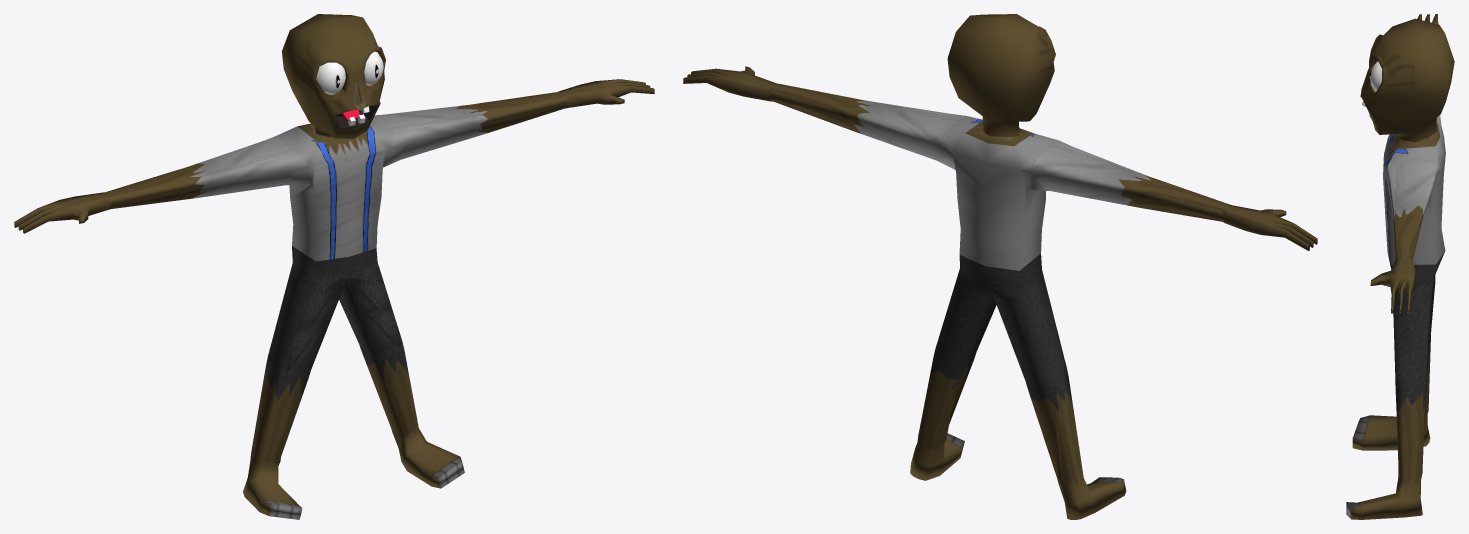
The model's file is Zombie.fbx.
The picture shows the model from 3 angles, left to right: view 1: azimuth 30°, elevation 25°; view 2: azimuth 150°, elevation 25°; view 3: azimuth 270°, elevation 25°; orthographic projection. The views are drawn at different scales.
Parts seen in each view (by area): view 1: zombie; view 2: zombie; view 3: zombie.
Part boxes in pixels (left/top/right/bottom): zombie: left=14, top=14, right=654, bottom=519; zombie: left=683, top=14, right=1317, bottom=519; zombie: left=1346, top=14, right=1454, bottom=519.
Size of the model in its own units: 224 by 160 by 34.88.
1 material, 1 textured.
